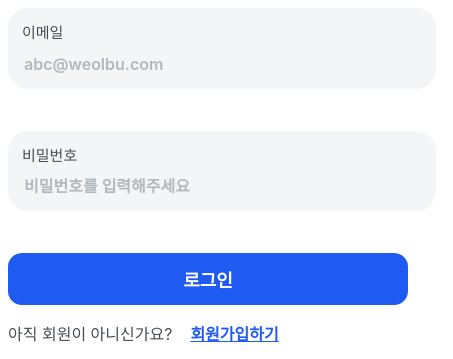
it: LoginForm - 유효하지 않은 입력 › 이메일을 입력하지 않으면 에러 메시지가 표시된다
Click the button "로그인". click: {"x": 208, "y": 279}
box: [8,253,408,305]
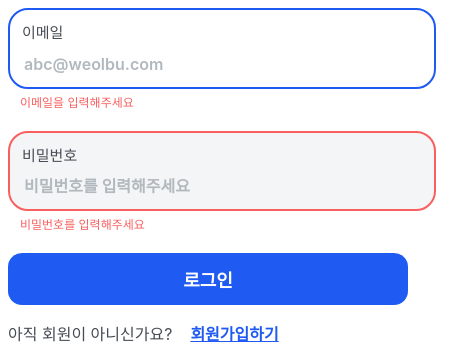
Expected: the text "이메일을 입력해주세요" is shown, [20,94,134,110]
